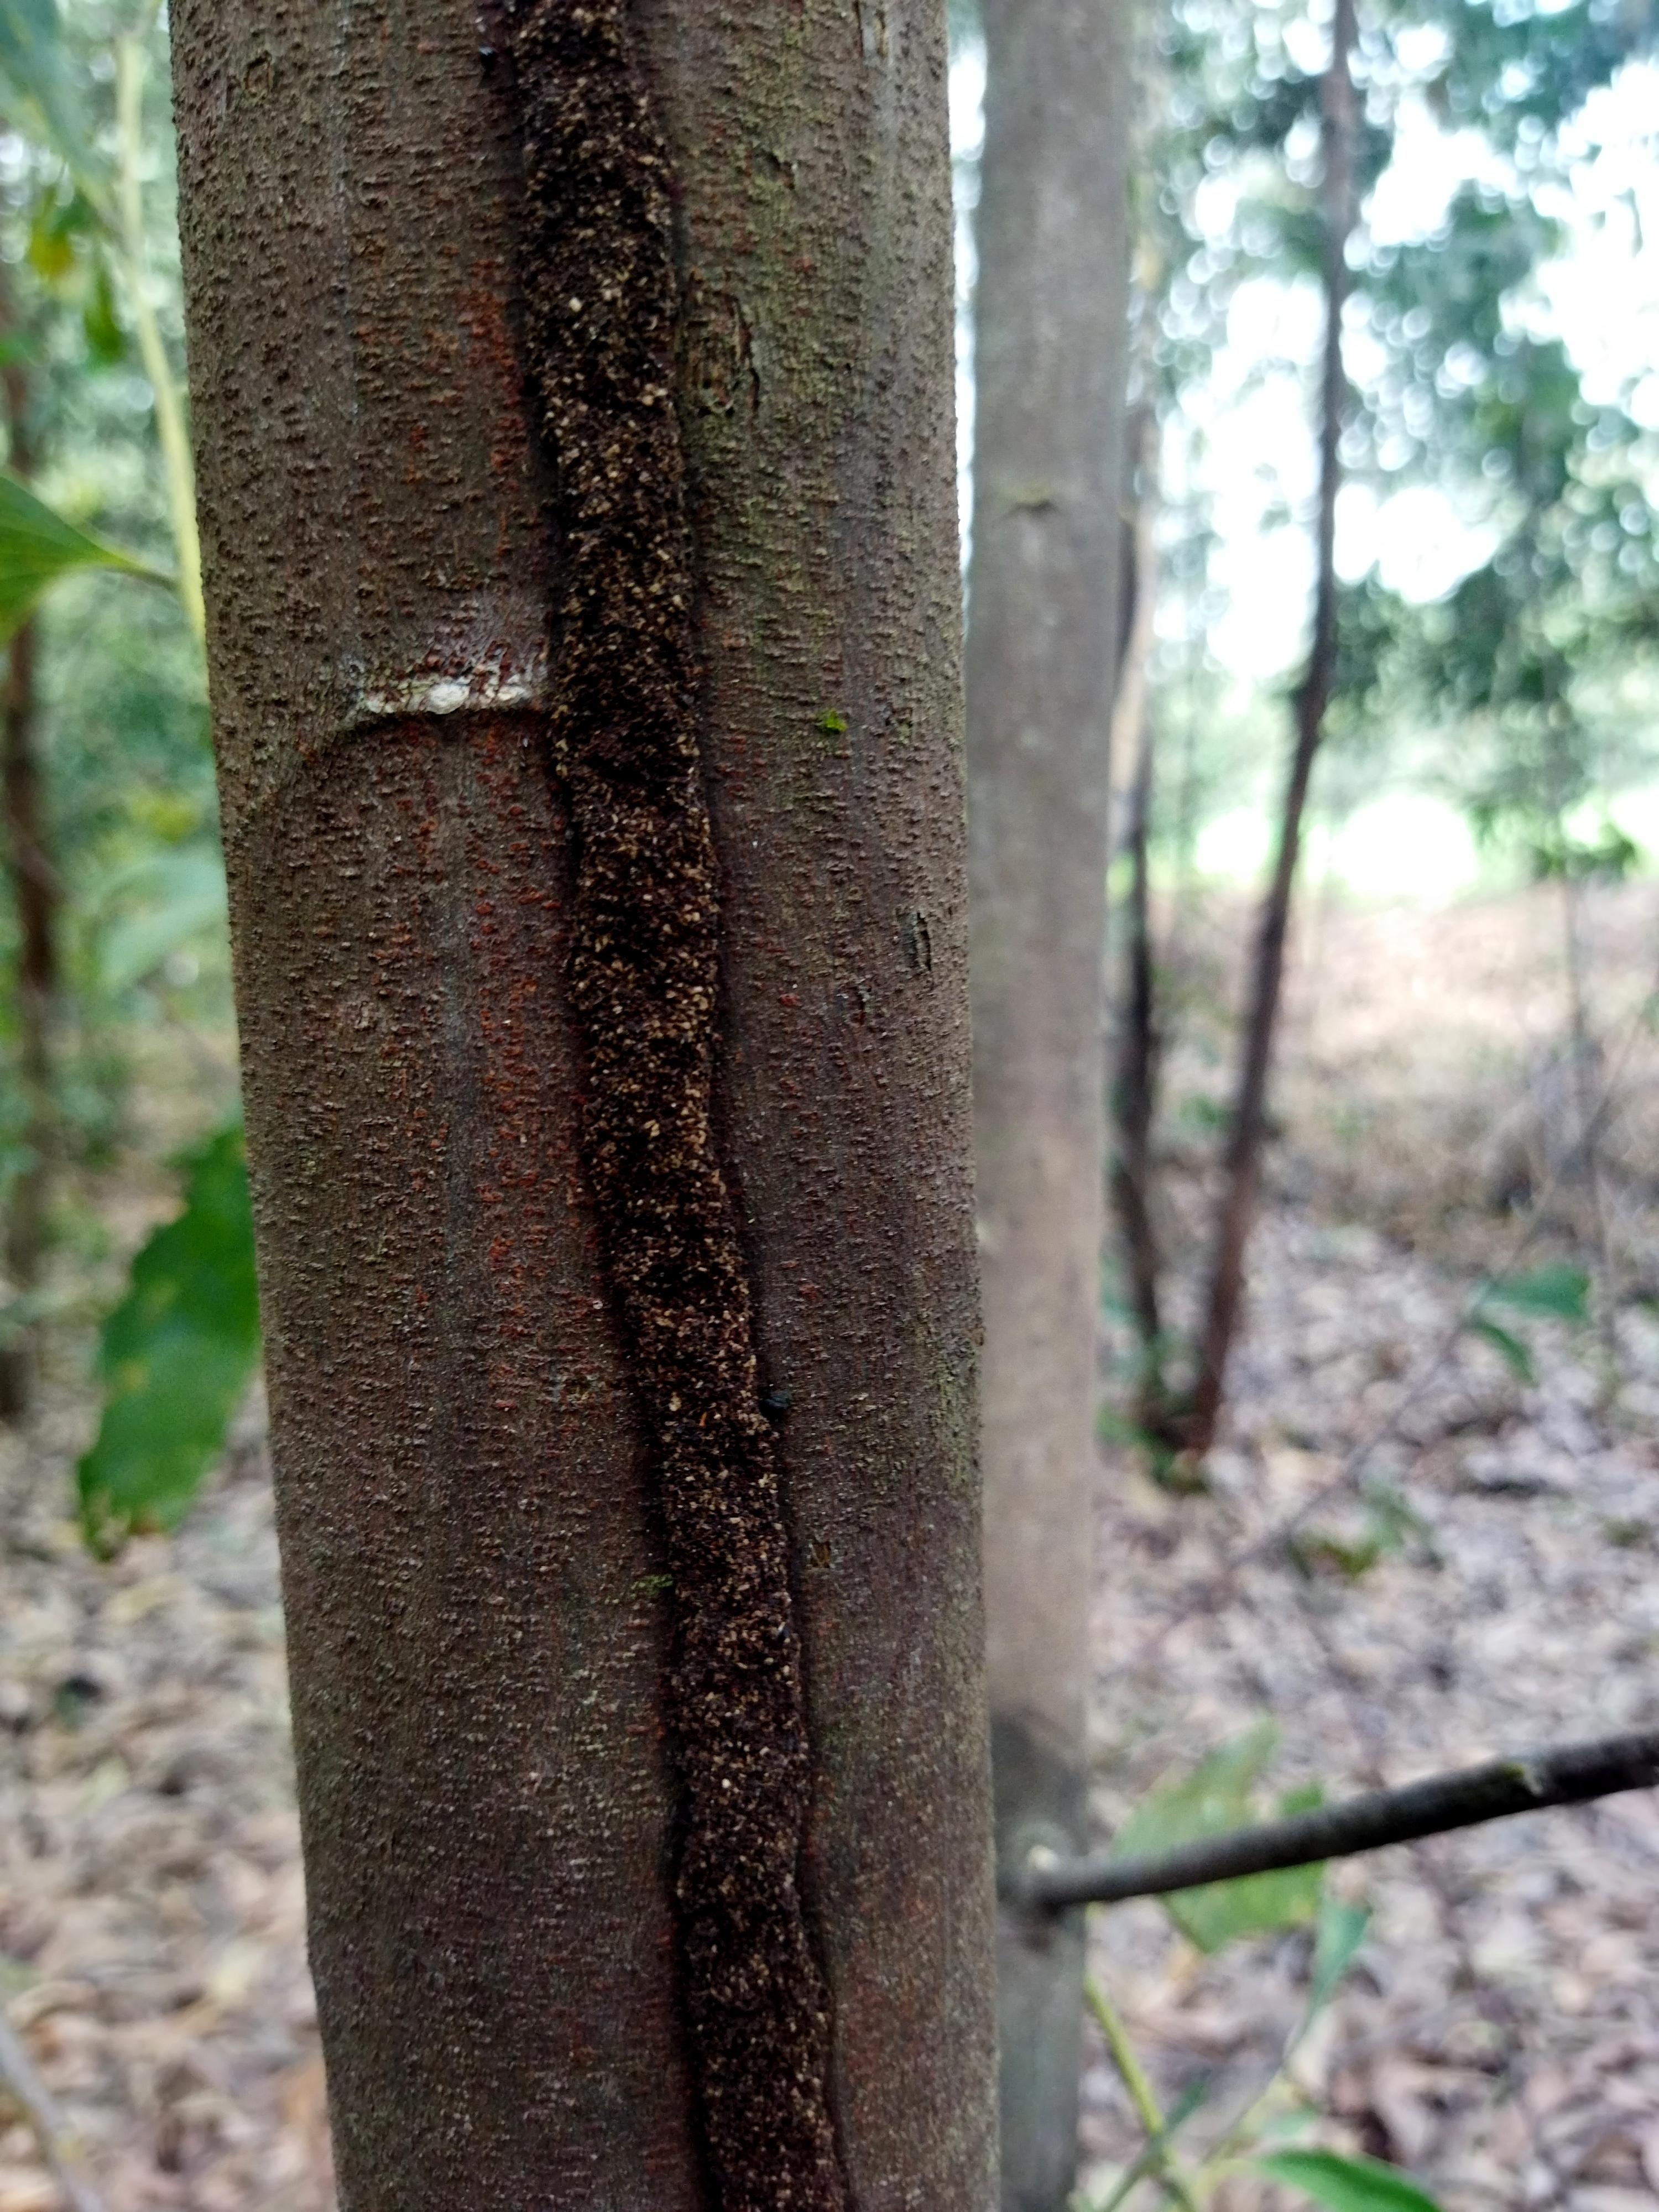Termite - Nest: (366, 0, 960, 2212)
